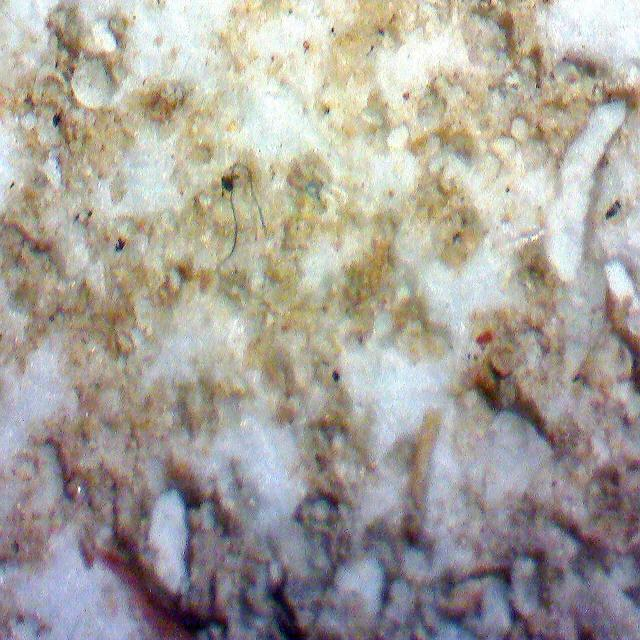microplastic: (227, 163, 267, 258)
